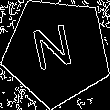N_S: (33, 22, 81, 80)
